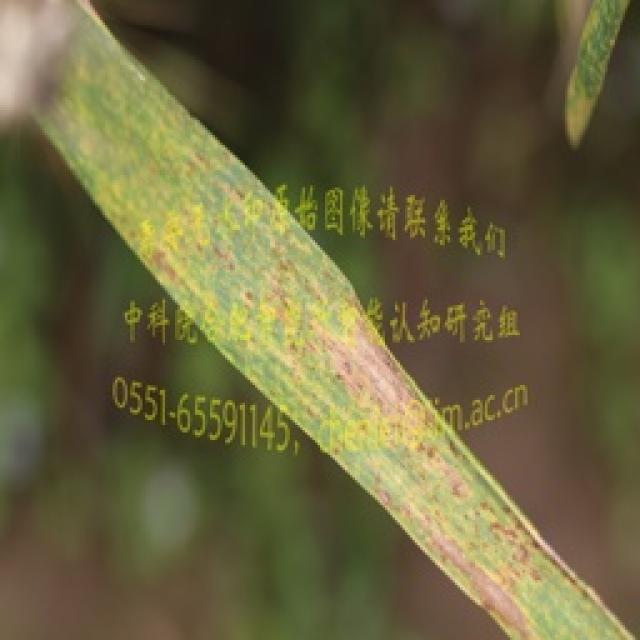Healthy Wheat: (12, 0, 638, 638)
